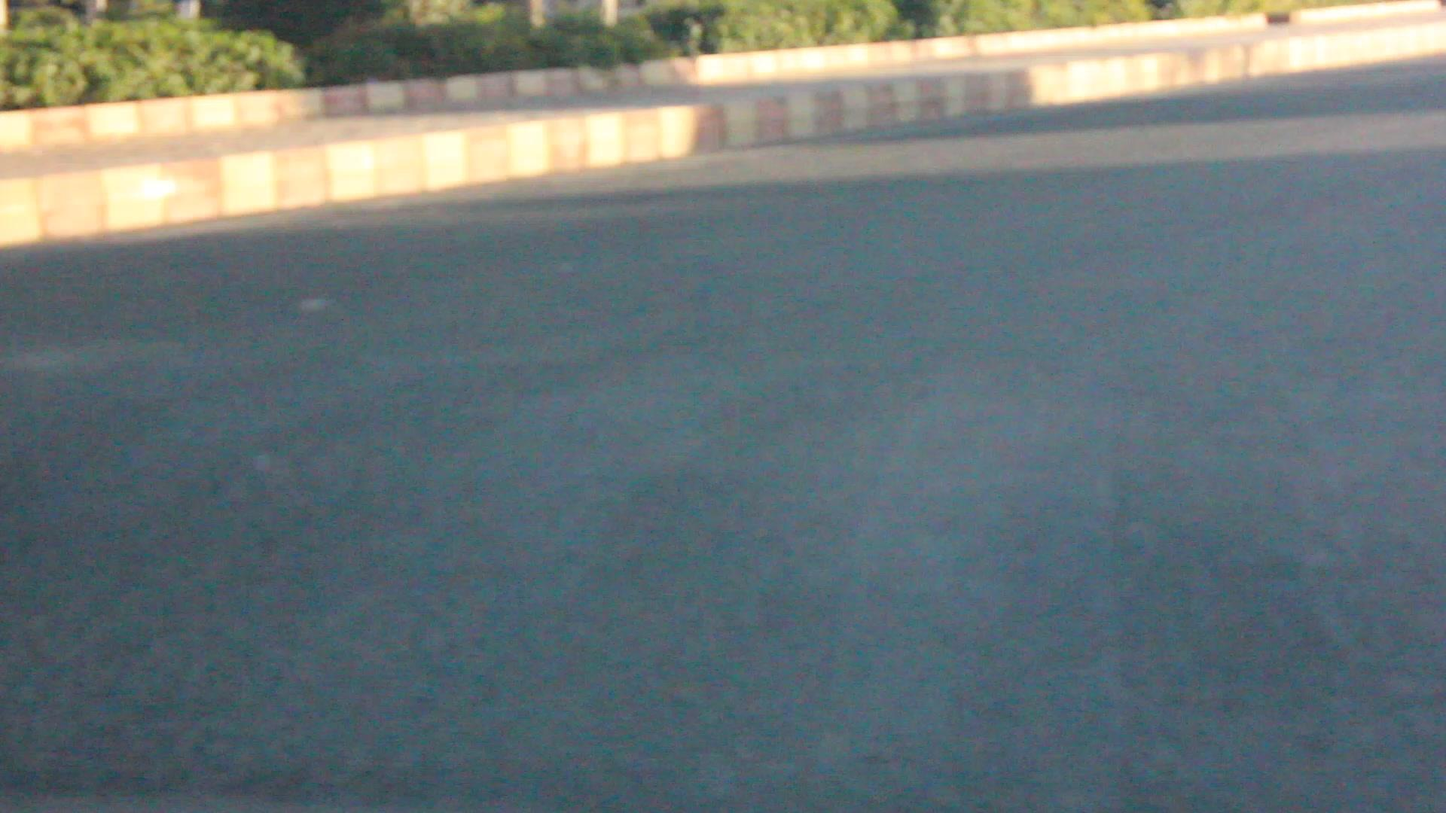Bump: (11, 331, 1446, 702)
